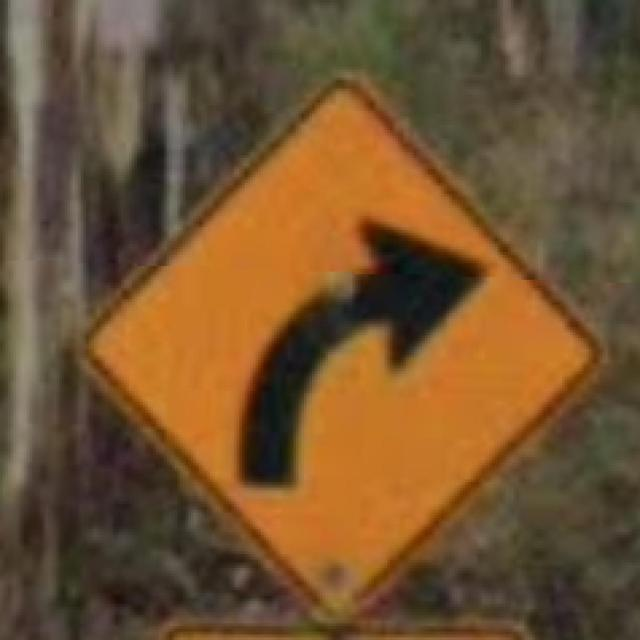Tikungan Ke Kanan: (70, 69, 608, 621)
